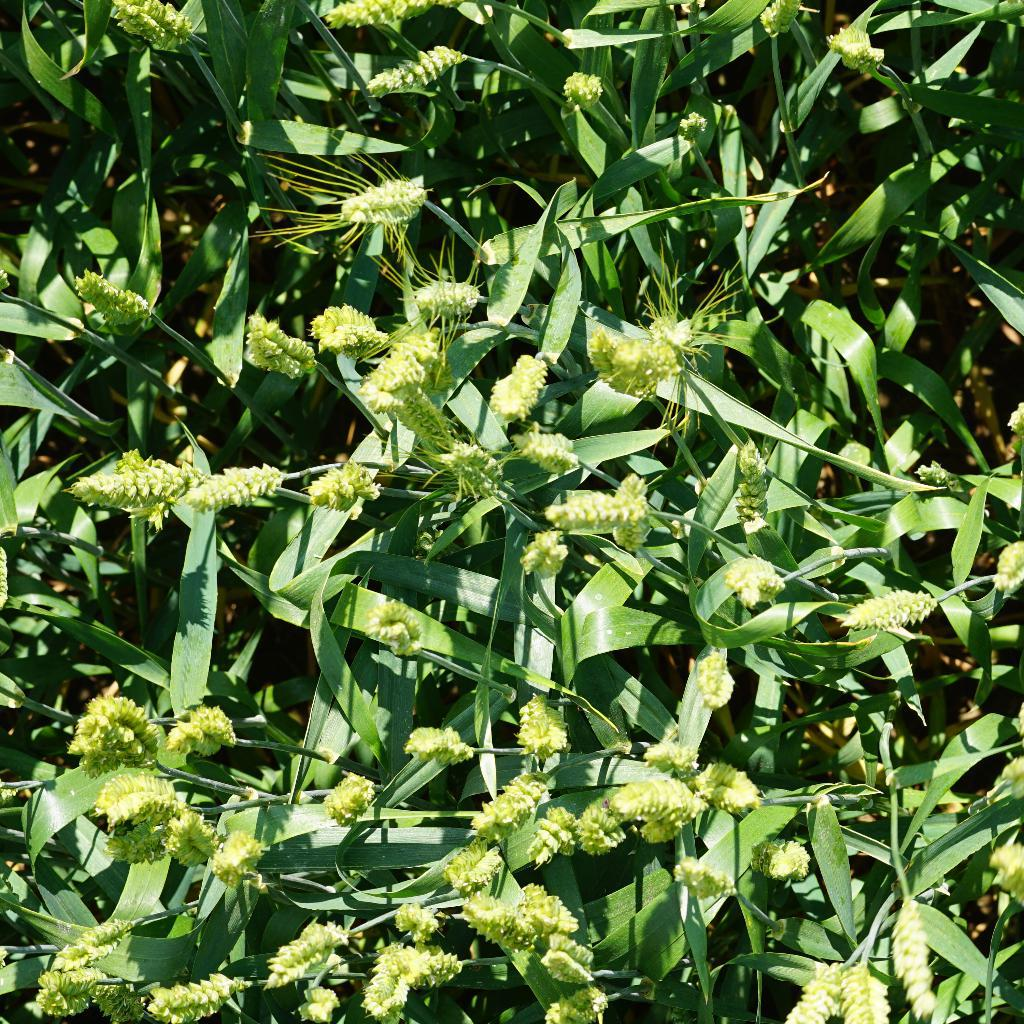0-0: (350, 359, 459, 453), (884, 885, 955, 1021), (60, 261, 169, 346), (318, 159, 438, 230), (239, 911, 363, 978), (68, 451, 193, 514), (62, 687, 156, 769), (97, 0, 210, 67), (545, 481, 671, 537), (363, 32, 471, 97), (830, 576, 937, 641), (23, 964, 131, 1024), (582, 322, 661, 403), (423, 834, 522, 896), (294, 459, 397, 518), (310, 758, 388, 833), (458, 770, 545, 836), (141, 970, 246, 1023), (493, 337, 559, 421), (646, 301, 706, 392), (33, 919, 150, 965), (176, 460, 299, 503), (96, 762, 179, 823), (776, 934, 832, 1024), (362, 597, 434, 666), (236, 320, 317, 381), (514, 686, 579, 761), (733, 437, 781, 537), (826, 949, 890, 1024), (505, 795, 571, 866), (321, 0, 467, 32), (687, 761, 773, 815), (434, 444, 512, 503), (400, 717, 482, 772), (620, 769, 694, 829), (206, 814, 265, 889), (310, 301, 387, 357), (509, 881, 586, 935), (448, 900, 531, 950), (515, 946, 601, 991), (725, 553, 789, 613), (174, 701, 238, 761), (511, 433, 590, 481), (830, 21, 896, 78), (752, 823, 813, 884), (673, 855, 739, 911), (526, 983, 616, 1024), (514, 519, 580, 574), (414, 269, 488, 317), (576, 799, 630, 863), (636, 724, 706, 772), (692, 653, 750, 709), (352, 957, 408, 1015), (389, 946, 462, 989), (165, 813, 216, 871), (388, 894, 441, 945), (555, 63, 612, 109), (752, 0, 804, 49), (286, 983, 350, 1021), (672, 93, 712, 149)
